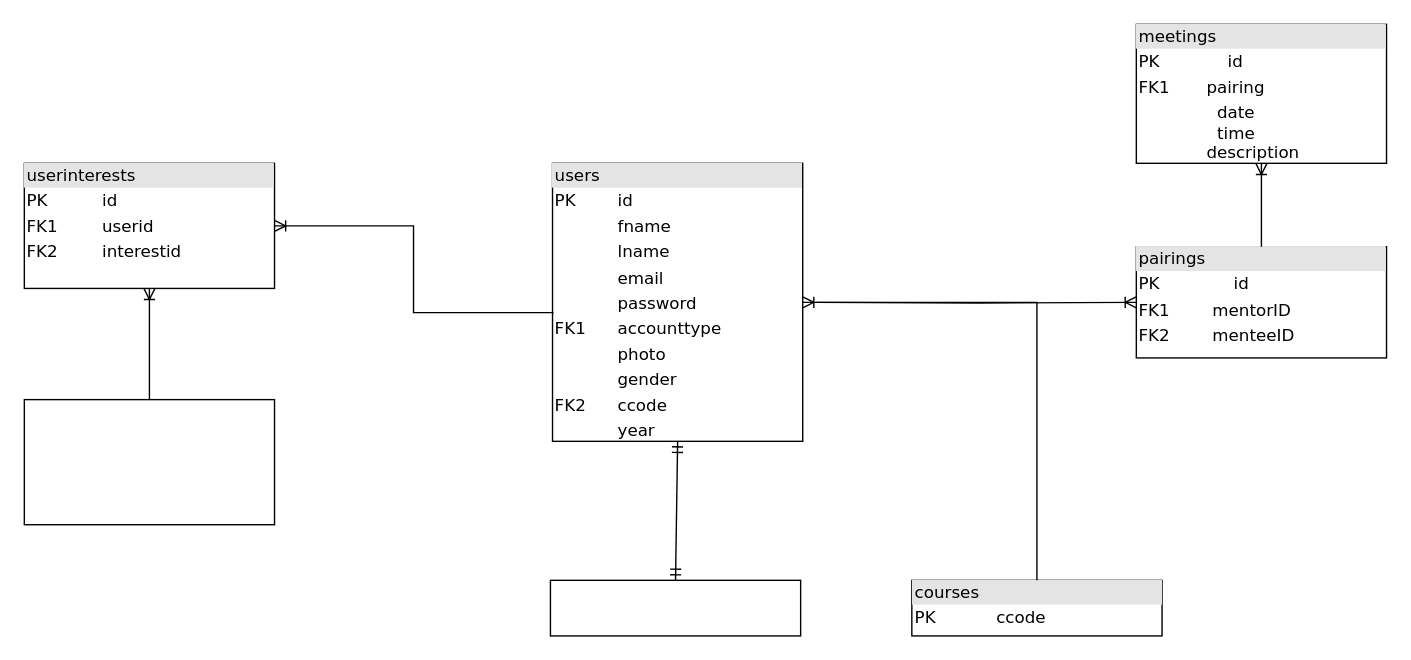
Image size: 1411x660. Some labels were removed from this diagram. The shapes that lost their labels are listed below. From the top down, each one's centre as x and y in pixels, then its label:
At (x=149, y=461): "interests PK id interest".
At (x=675, y=607): "accounttype PK type".
